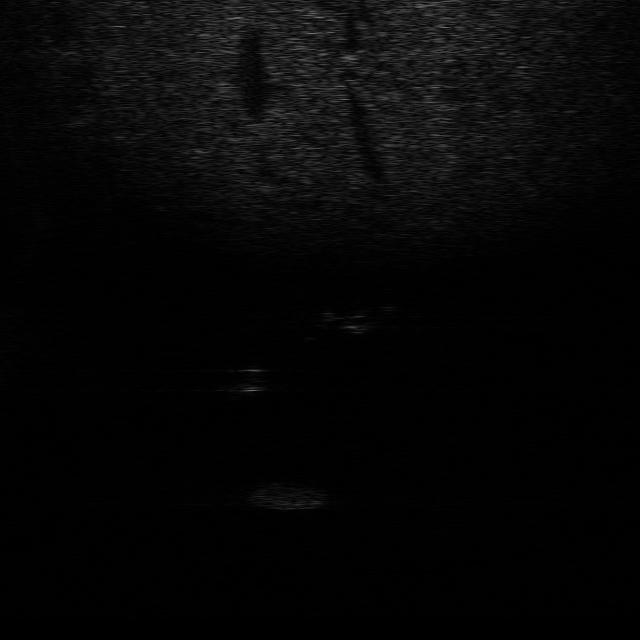ball: (220, 360, 275, 400)
circle cage: (242, 478, 336, 512)
human body: (306, 298, 398, 339)
